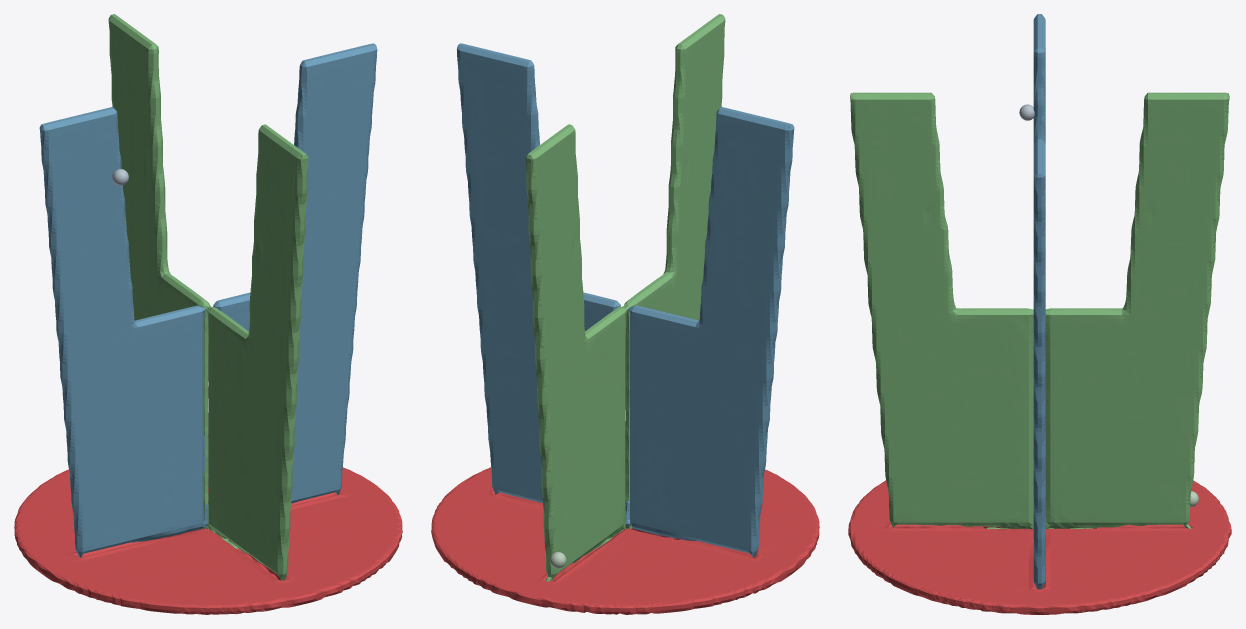
Rendered from ours.glb.
3 renders of one model, left to right at view 1: azimuth 30°, elevation 25°; view 2: azimuth 150°, elevation 25°; view 3: azimuth 270°, elevation 25°, orthographic.
Parts seen in each view (by area): view 1: g1, g2, g0; view 2: g1, g2, g0; view 3: g2, g0, g1.
Part boxes in pixels (x1=…): g1: x1=39, y1=43, x2=377, y2=557; g2: x1=108, y1=14, x2=308, y2=580; g0: x1=14, y1=467, x2=402, y2=614; g1: x1=456, y1=43, x2=794, y2=557; g2: x1=525, y1=14, x2=725, y2=581; g0: x1=431, y1=467, x2=819, y2=614; g2: x1=850, y1=92, x2=1229, y2=529; g0: x1=848, y1=480, x2=1231, y2=614; g1: x1=1019, y1=14, x2=1045, y2=589.
Bounding box in the file's own units: 1.49 × 1.96 × 1.5.
